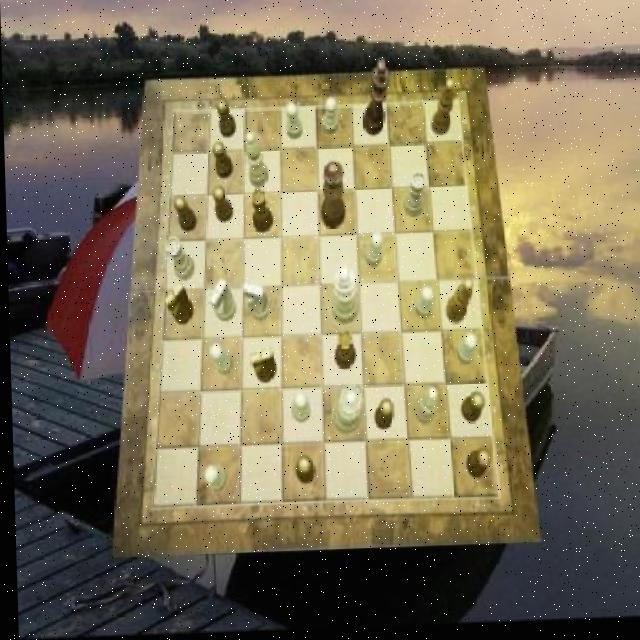bishop: (428, 82, 454, 139), (442, 282, 471, 327)
black-bishop: (360, 60, 390, 138)
black-king: (162, 282, 190, 327), (247, 349, 274, 384)
black-knight: (171, 196, 195, 233), (458, 395, 483, 427), (210, 186, 231, 224), (211, 143, 232, 181), (462, 451, 487, 482), (216, 101, 235, 140), (370, 401, 390, 434), (291, 458, 311, 486)
black-pawn: (318, 164, 344, 231)
black-queen: (248, 189, 272, 235), (331, 333, 353, 374)
black-rook: (244, 134, 268, 189), (411, 389, 436, 428)
white-bishop: (329, 267, 357, 328)
white-king: (207, 281, 235, 324), (241, 283, 269, 324)
white-knight: (207, 344, 230, 377), (454, 337, 475, 370), (284, 104, 302, 142), (363, 234, 382, 269), (412, 289, 432, 322), (200, 466, 224, 492), (290, 393, 308, 426), (321, 100, 337, 137)
white-pawn: (329, 387, 359, 437)
white-queen: (164, 236, 193, 282), (401, 176, 425, 222)
